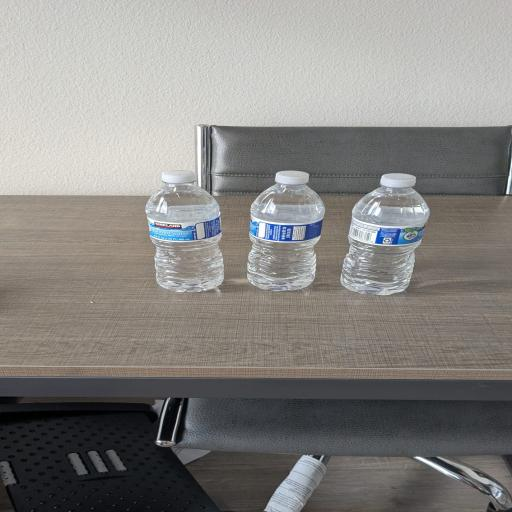waterbottle: (341, 174, 429, 295), (146, 171, 223, 292), (248, 171, 324, 290)
